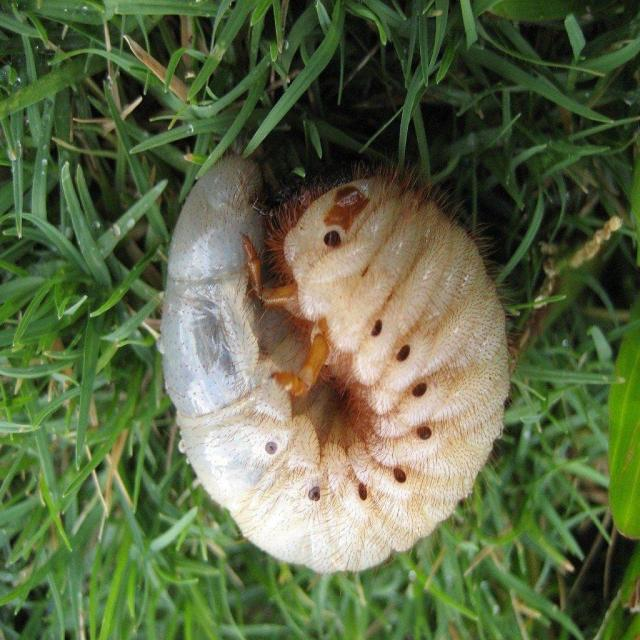grub: (142, 155, 512, 579)
